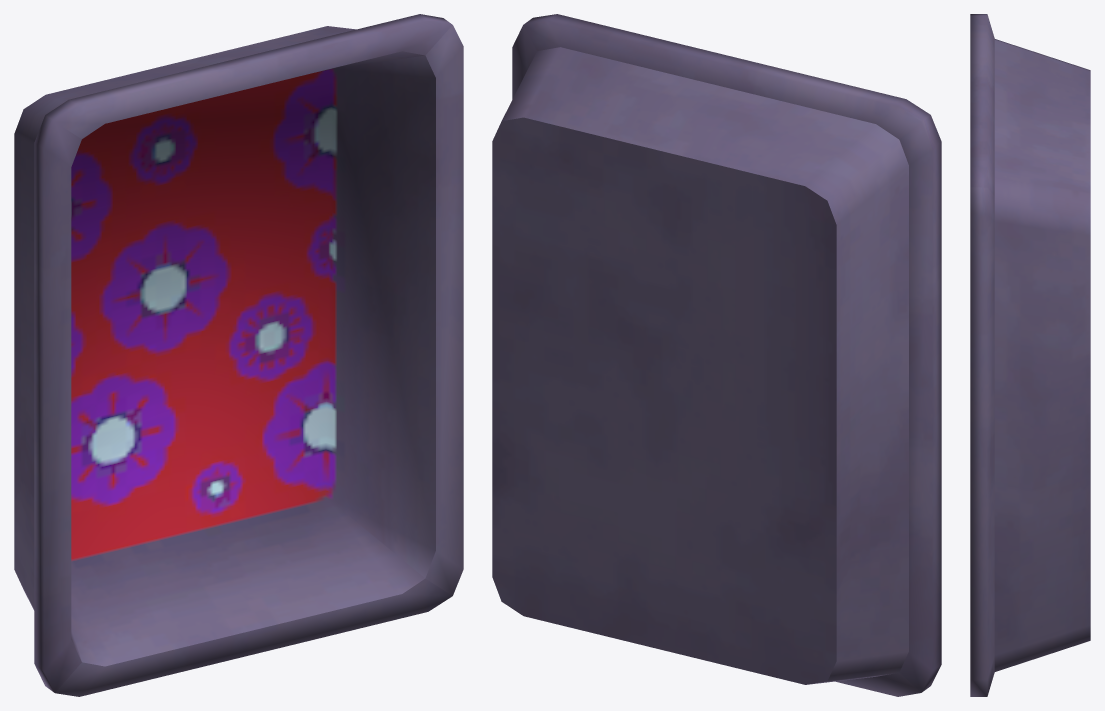
File: nt_2020_storage_bin_LOD0.obj
3 views of the same model, side by side, from view 1: azimuth 30°, elevation 25°; view 2: azimuth 150°, elevation 25°; view 3: azimuth 270°, elevation 25° (orthographic). The views are drawn at different scales.
Visible parts, largest first — view 1: mtl_nt_2020_storage_bin; view 2: mtl_nt_2020_storage_bin; view 3: mtl_nt_2020_storage_bin.
Boxes of the visible parts, left/top/right/bottom form: mtl_nt_2020_storage_bin: left=14, top=14, right=463, bottom=696; mtl_nt_2020_storage_bin: left=492, top=14, right=941, bottom=696; mtl_nt_2020_storage_bin: left=970, top=14, right=1090, bottom=696.
Size of the model in its own units: 44.83 by 60.25 by 12.45.
